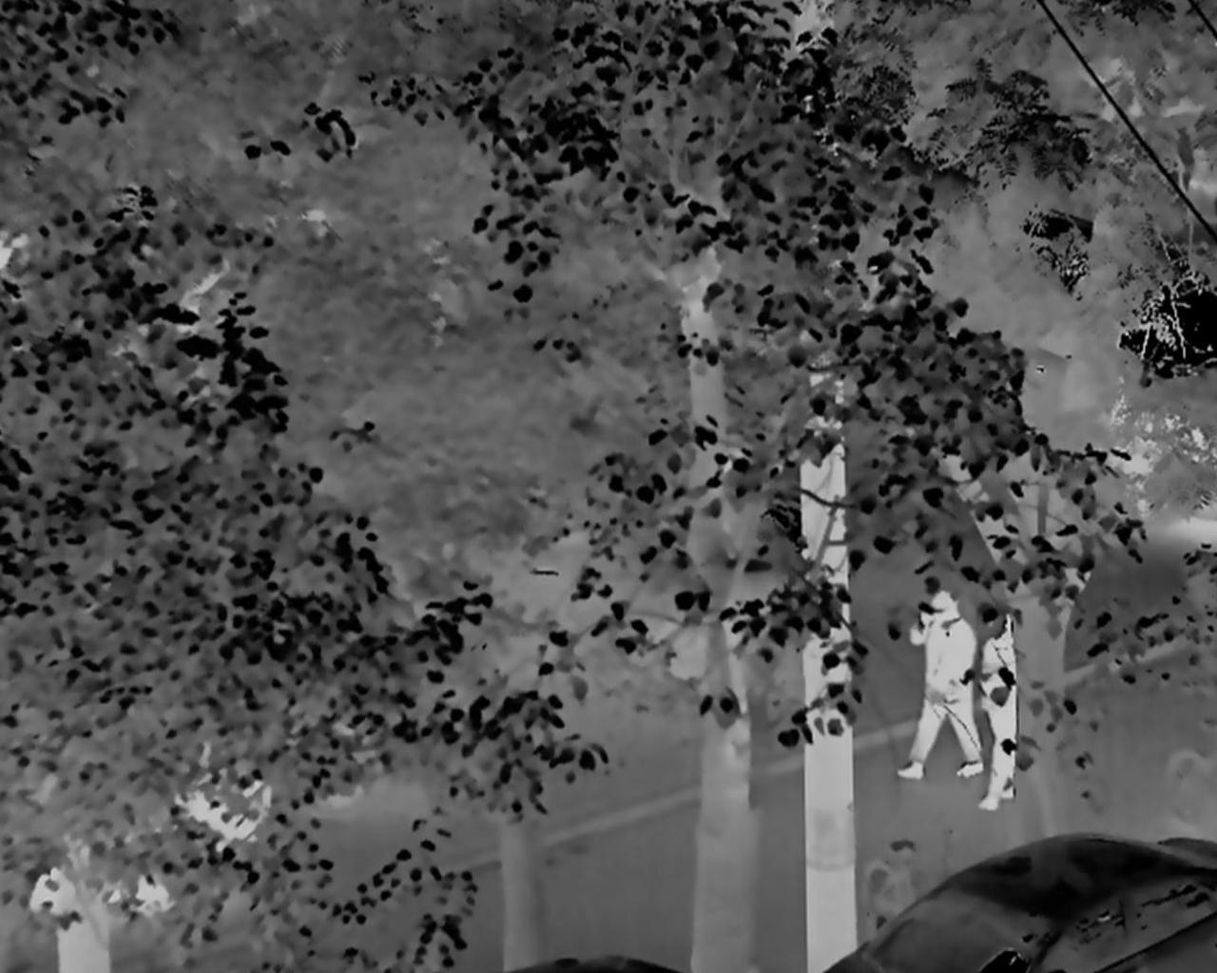person: (900, 589, 984, 792), (974, 611, 1015, 809)
